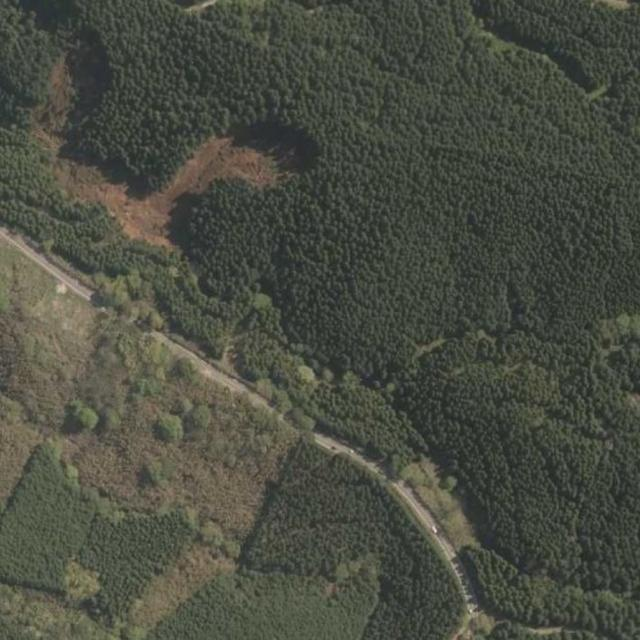landslide: (31, 41, 314, 246)
